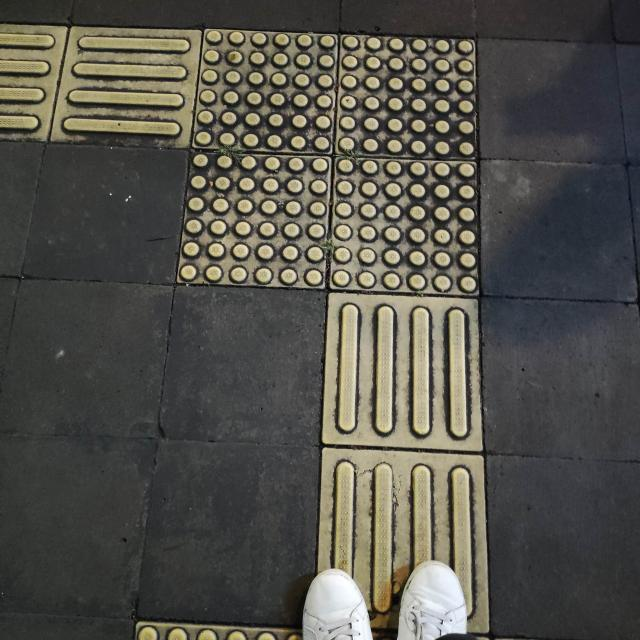kiri: (41, 25, 531, 382)
